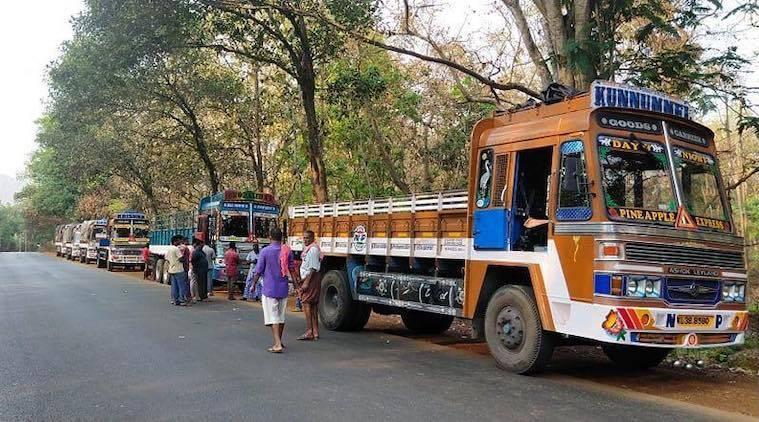truck: (295, 67, 759, 397), (155, 175, 293, 301), (56, 189, 152, 275)
